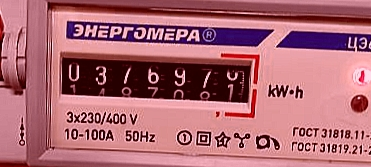0: (67, 59, 81, 82)
1: (224, 81, 237, 102)
3: (93, 63, 109, 86)
6: (146, 61, 161, 84)
7: (199, 65, 214, 89), (119, 61, 134, 84)
9: (171, 64, 187, 87)
screen: (50, 42, 263, 121)
